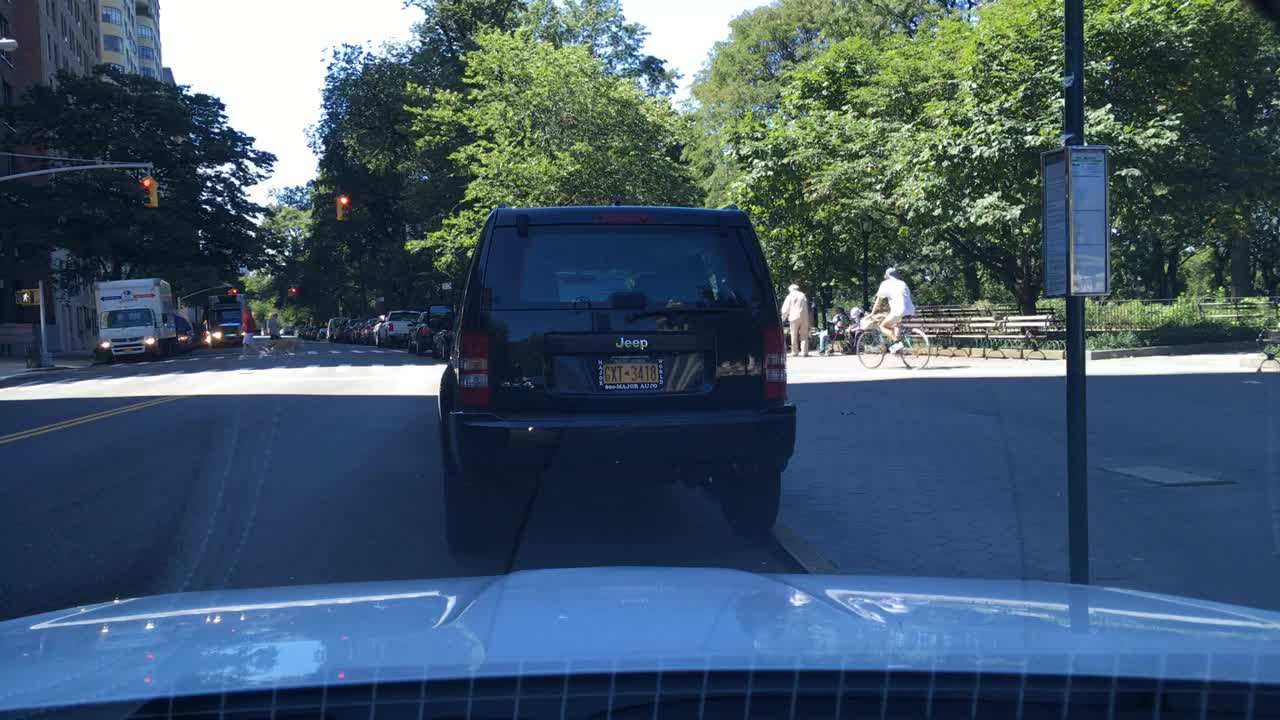bike: (853, 315, 929, 370)
car: (435, 202, 796, 552), (409, 314, 444, 355), (381, 310, 419, 344), (173, 315, 195, 351), (439, 321, 457, 354), (328, 319, 351, 339), (355, 321, 373, 341), (366, 318, 380, 341), (343, 321, 359, 339), (300, 328, 314, 341), (314, 326, 326, 340)
person: (779, 281, 811, 356), (844, 306, 879, 356), (238, 306, 268, 361), (817, 306, 849, 356), (265, 311, 291, 356)
rider: (862, 268, 917, 359)
traffic light: (140, 177, 152, 205), (338, 194, 349, 220), (16, 291, 32, 303), (291, 286, 295, 299)
truck: (91, 277, 175, 359), (208, 293, 249, 346)
